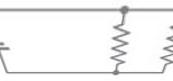resistor: (109, 19, 131, 69)
